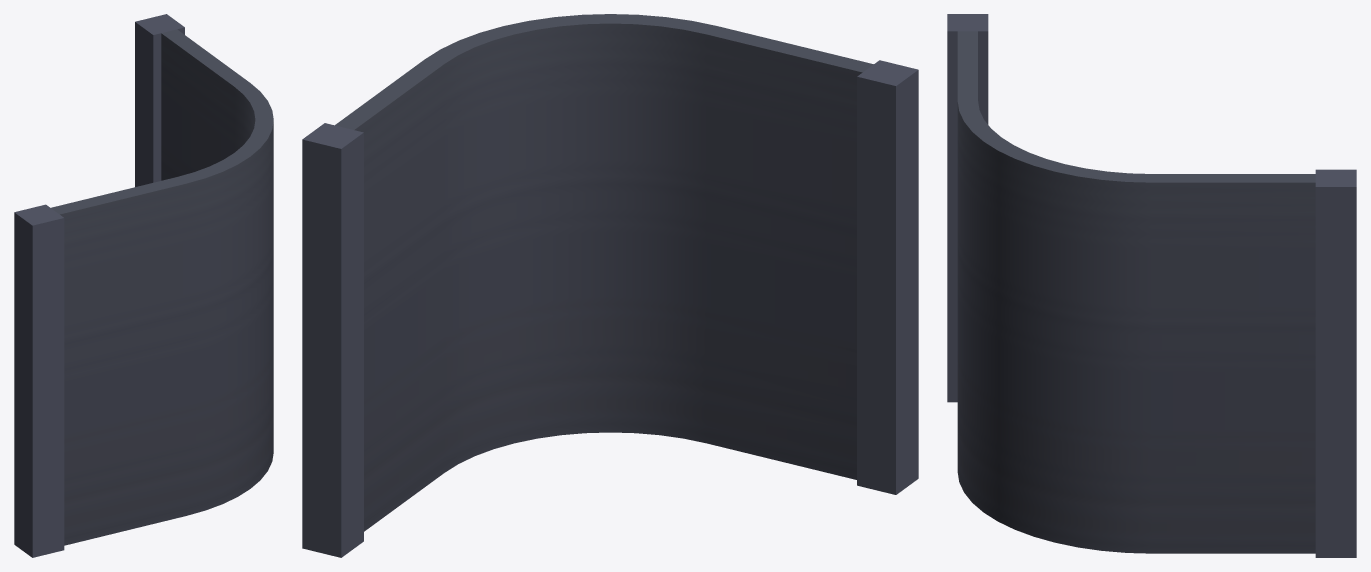
Rendered from wall-rounded.glb.
3 views of the same model, side by side, from view 1: azimuth 30°, elevation 25°; view 2: azimuth 150°, elevation 25°; view 3: azimuth 270°, elevation 25° (orthographic). The views are drawn at different scales.
Visible parts, largest first — view 1: wall-rounded; view 2: wall-rounded; view 3: wall-rounded.
Part boxes in pixels (left/top/right/bottom): wall-rounded: left=14, top=14, right=273, bottom=557; wall-rounded: left=302, top=14, right=918, bottom=557; wall-rounded: left=947, top=14, right=1356, bottom=557.
Bounding box in the file's own units: 1 × 1 × 1.
1 material, 1 textured.
